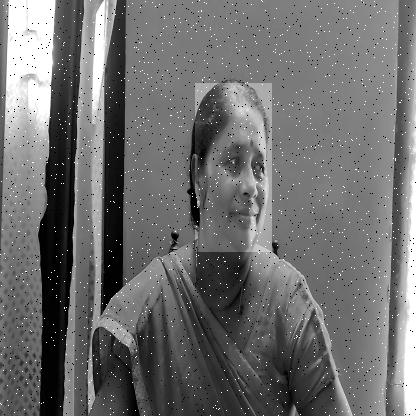Distracted: (195, 83, 272, 252)
